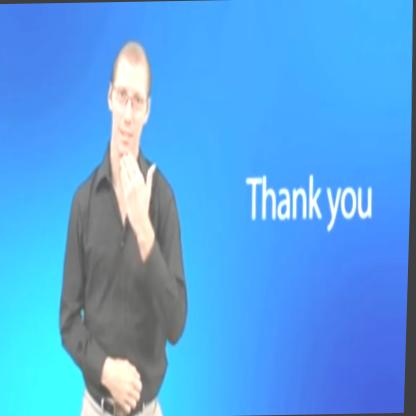ThankYou: (91, 23, 173, 280)
